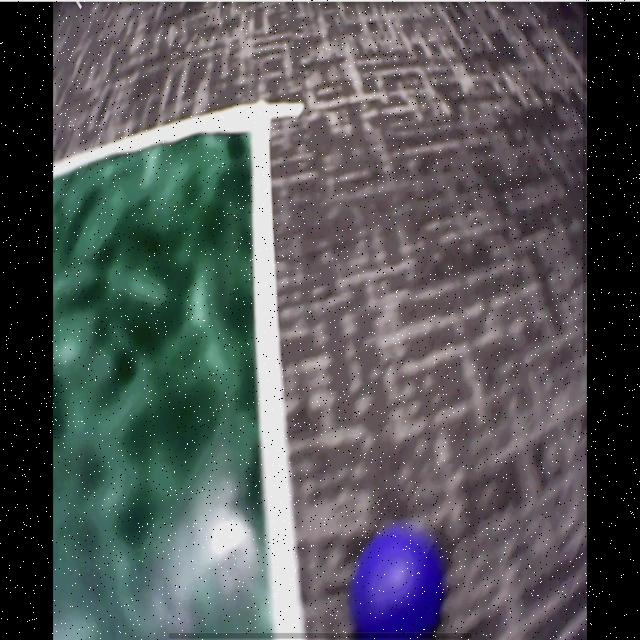ball: (353, 534, 441, 640)
